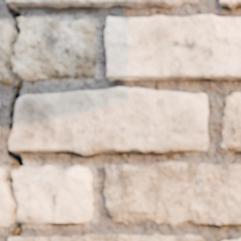brick: (11, 88, 207, 155), (106, 16, 240, 80), (105, 163, 240, 225), (8, 0, 197, 8), (222, 93, 240, 151), (9, 235, 203, 240), (221, 0, 240, 8)
broken_brick: (13, 16, 98, 82), (14, 165, 93, 225), (0, 20, 12, 85), (0, 183, 11, 228), (0, 168, 6, 175)
crack: (0, 2, 31, 238)
